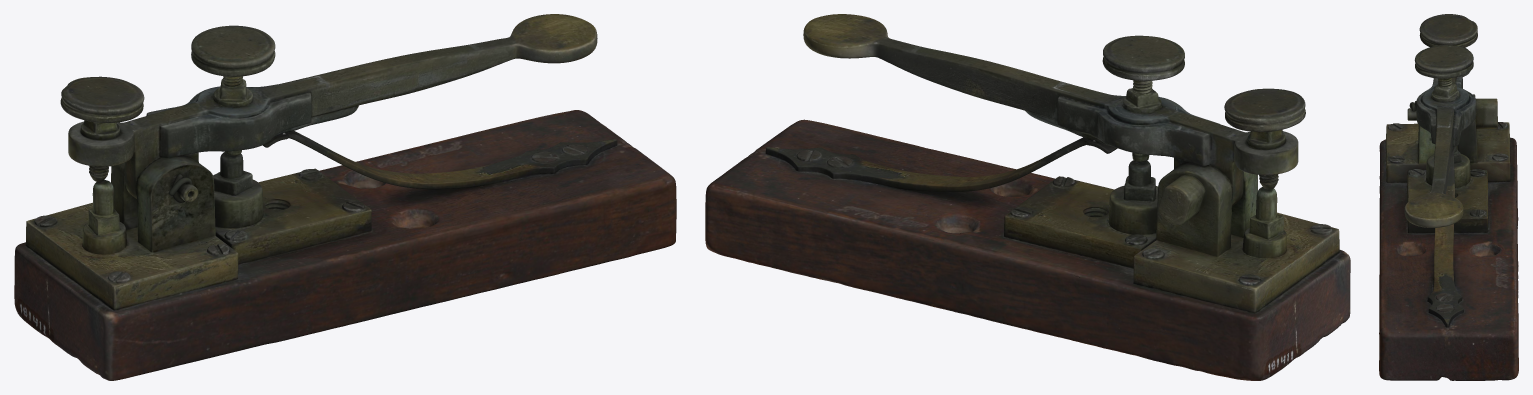
3 views of the same model, side by side, from view 1: azimuth 30°, elevation 25°; view 2: azimuth 150°, elevation 25°; view 3: azimuth 270°, elevation 25° (orthographic). The views are drawn at different scales.
Bounding box in the file's own units: 0.1691 × 0.0766 × 0.0508.
Materials: 1 (1 with a texture image).
